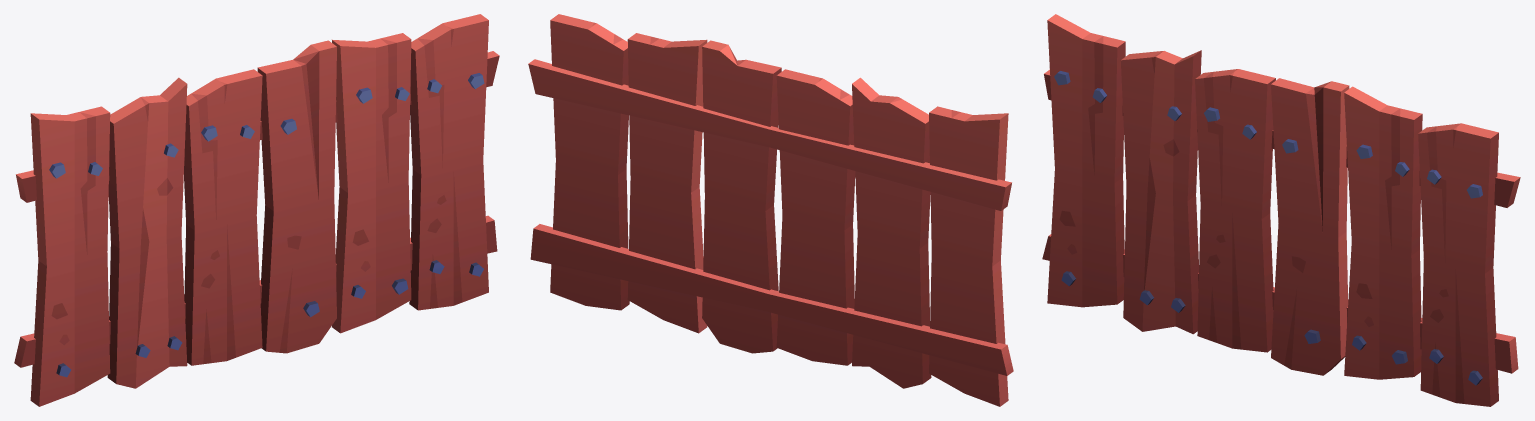
File: fence_4.glb
3 views of the same model, side by side, from view 1: azimuth 30°, elevation 25°; view 2: azimuth 150°, elevation 25°; view 3: azimuth 330°, elevation 25° (orthographic).
Visible parts, largest first — view 1: fence_4; view 2: fence_4; view 3: fence_4.
Boxes of the visible parts, <box> form: fence_4: <box>14,14,499,406</box>; fence_4: <box>528,14,1013,406</box>; fence_4: <box>1042,14,1520,406</box>.
Bounding box in the file's own units: 1.73 × 1.02 × 0.1018.
1 material, 1 textured.
